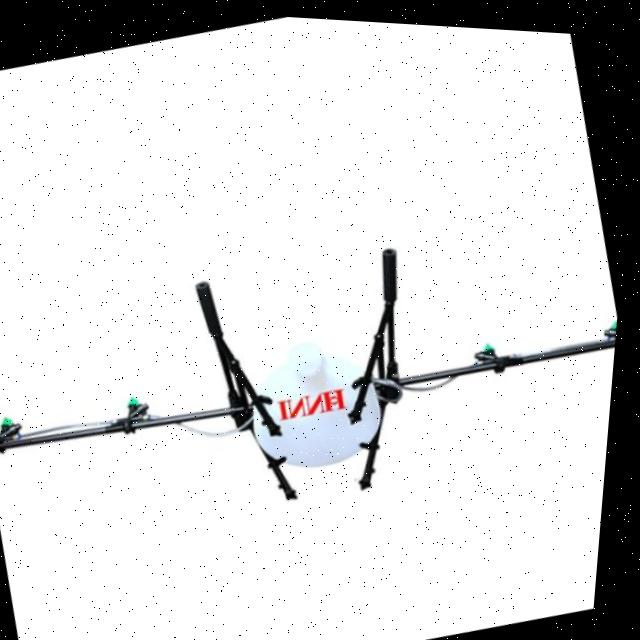drones: (0, 149, 630, 596)
